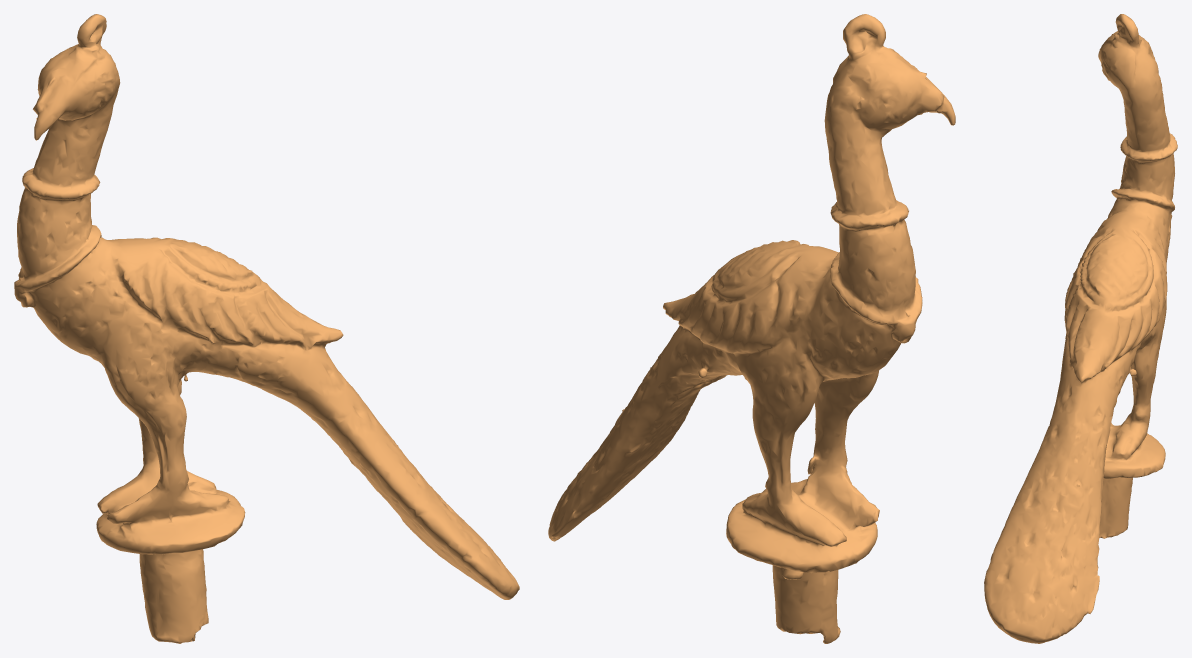
File: Saivam_Mayil_09.glb
3 renders of one model, left to right at view 1: azimuth 30°, elevation 25°; view 2: azimuth 150°, elevation 25°; view 3: azimuth 270°, elevation 25°, orthographic. The views are drawn at different scales.
Parts seen in each view (by area): view 1: Saivam_Mayil_09; view 2: Saivam_Mayil_09; view 3: Saivam_Mayil_09.
Part boxes in pixels (x1=…): Saivam_Mayil_09: x1=14, y1=14, x2=519, y2=643; Saivam_Mayil_09: x1=548, y1=14, x2=955, y2=643; Saivam_Mayil_09: x1=984, y1=14, x2=1177, y2=643.
Bounding box in the file's own units: 0.34 × 0.4738 × 0.1675.
